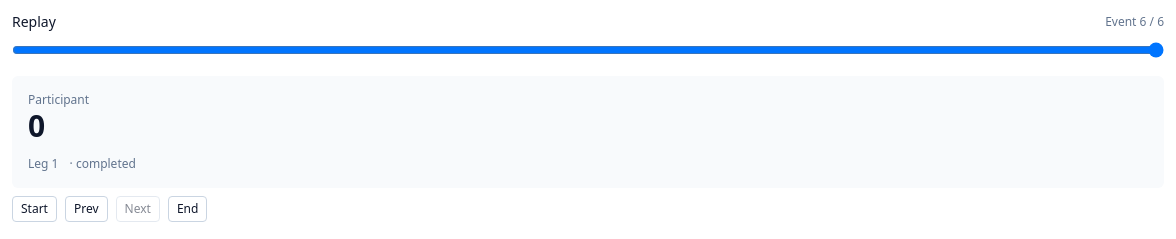
Test: ReplayScrubber › end button returns to the last event
This screenshot has width=1176, height=239.
Set the slider with test id "replay-slider" to "2": (399, 50) [12, 42, 1164, 58]
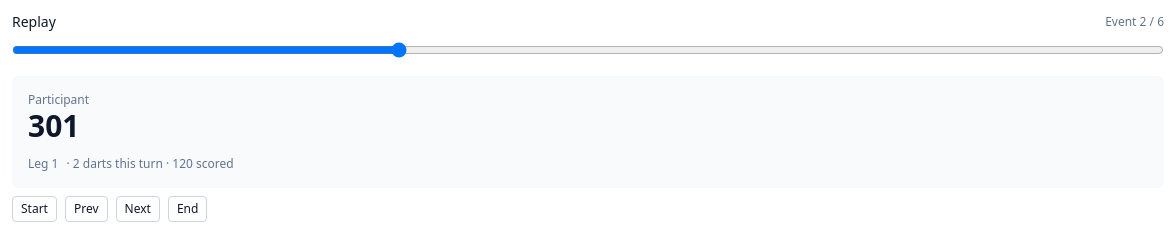
Click the button with test id "replay-end": (188, 209) [168, 196, 207, 222]
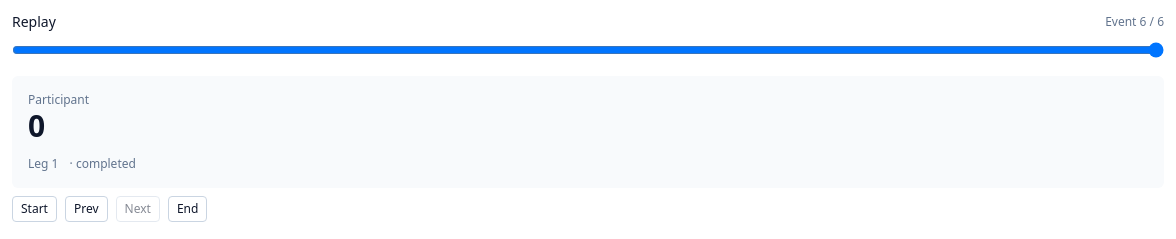
expect the text with test id "replay-position" reads "Event 6 / 6": met, box [1105, 14, 1164, 30]
